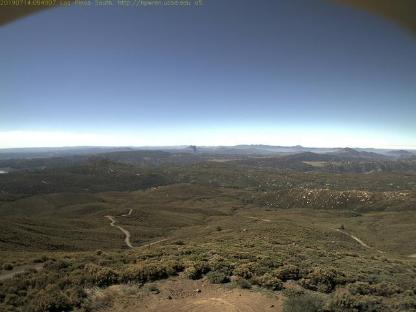smoke: (185, 142, 199, 156)
